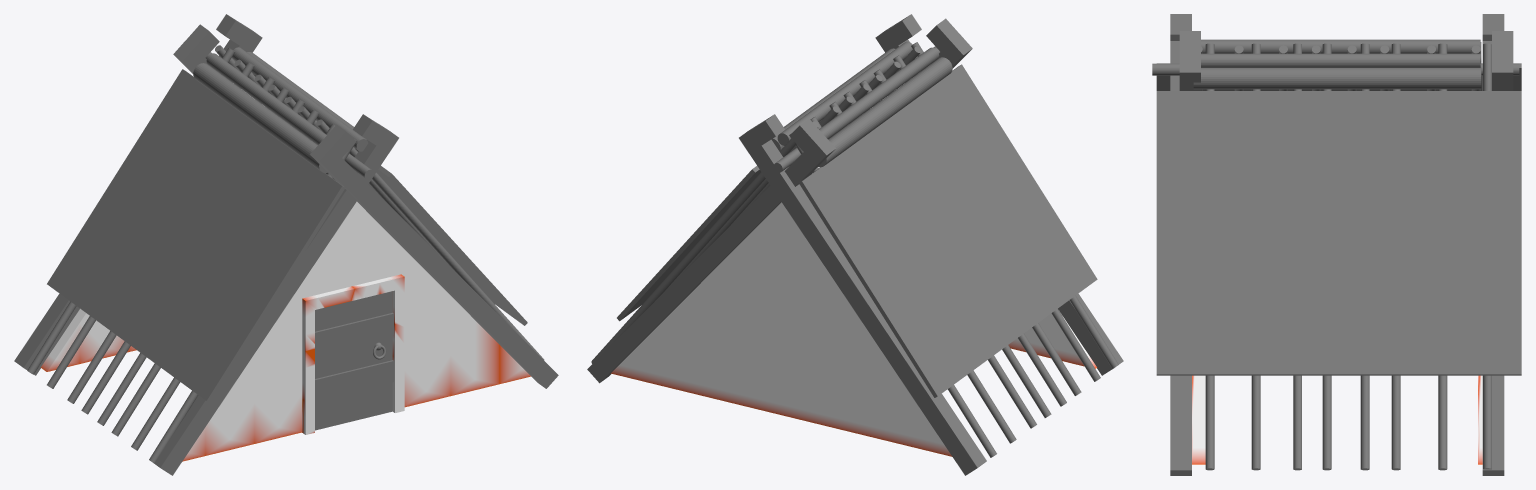
Rendered from Hut.fbx.
The picture shows the model from 3 angles, left to right: view 1: azimuth 30°, elevation 25°; view 2: azimuth 150°, elevation 25°; view 3: azimuth 270°, elevation 25°; orthographic projection. The views are drawn at different scales.
Visible parts, largest first — view 1: TOP, FRONTS_SeamsColor, DECORATIVESUPPORTS, SIDEBARS, OUTERBARS, DOOR, DOORFRAME1_oPP, DOORBARS; view 2: TOP, FRONTS_SeamsColor, DECORATIVESUPPORTS, SIDEBARS, OUTERBARS; view 3: TOP, OUTERBARS, SIDEBARS, DECORATIVESUPPORTS, FRONTS_SeamsColor, MIDBAR.
Part boxes in pixels (bbox=[...]): TOP: bbox=[47, 69, 527, 402]; FRONTS_SeamsColor: bbox=[41, 201, 530, 461]; DECORATIVESUPPORTS: bbox=[14, 14, 558, 475]; SIDEBARS: bbox=[27, 45, 544, 462]; OUTERBARS: bbox=[193, 47, 368, 172]; DOOR: bbox=[315, 291, 392, 430]; DOORFRAME1_oPP: bbox=[302, 274, 404, 434]; DOORBARS: bbox=[315, 312, 393, 401]; TOP: bbox=[617, 64, 1097, 397]; FRONTS_SeamsColor: bbox=[611, 202, 1096, 456]; DECORATIVESUPPORTS: bbox=[587, 14, 1123, 475]; SIDEBARS: bbox=[591, 42, 1118, 457]; OUTERBARS: bbox=[771, 41, 952, 167]; TOP: bbox=[1156, 63, 1521, 375]; OUTERBARS: bbox=[1193, 39, 1481, 89]; SIDEBARS: bbox=[1201, 43, 1491, 470]; DECORATIVESUPPORTS: bbox=[1170, 14, 1513, 475]; FRONTS_SeamsColor: bbox=[1192, 375, 1482, 464]; MIDBAR: bbox=[1152, 63, 1519, 75].
Bounding box in the file's own units: 4.92 × 3.61 × 3.45.
